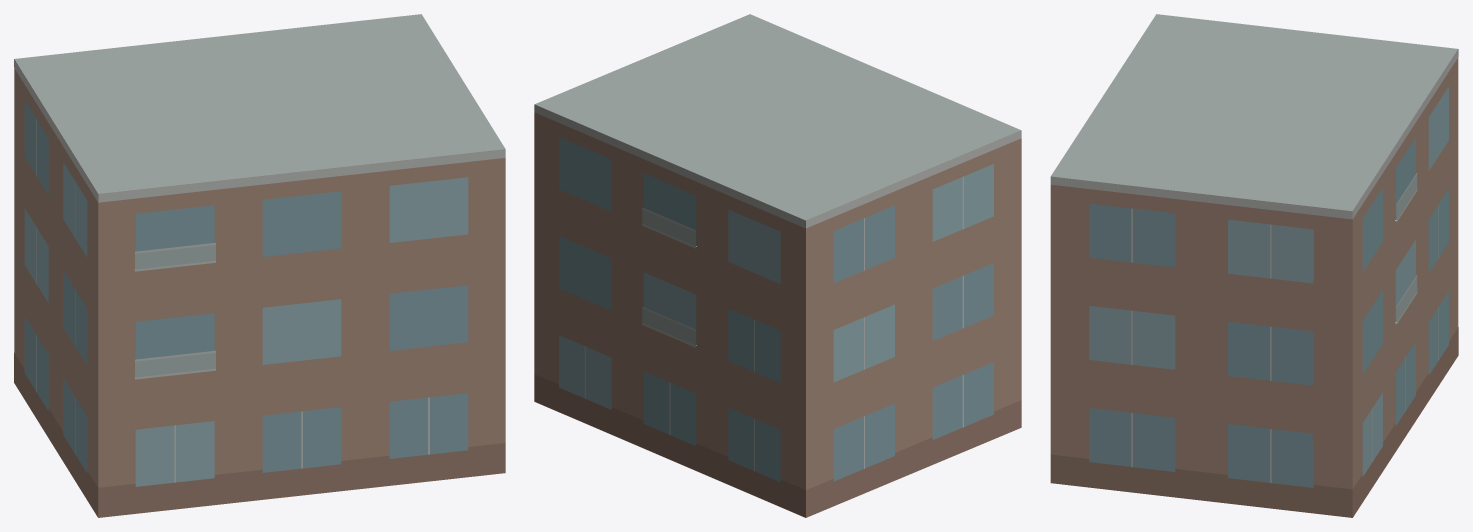
Rendered from survey-upis-32718310.glb.
3 renders of one model, left to right at view 1: azimuth 30°, elevation 25°; view 2: azimuth 150°, elevation 25°; view 3: azimuth 270°, elevation 25°, orthographic. The views are drawn at different scales.
Parts seen in each view (by area): view 1: survey-upis-32718310.tmp; view 2: survey-upis-32718310.tmp; view 3: survey-upis-32718310.tmp.
Boxes of the visible parts, box(x1,y1,x2,y2) form: survey-upis-32718310.tmp: box(14, 14, 505, 517); survey-upis-32718310.tmp: box(534, 14, 1021, 517); survey-upis-32718310.tmp: box(1050, 14, 1458, 517).
Size of the model in its own units: 12.64 by 9.15 by 11.04.
